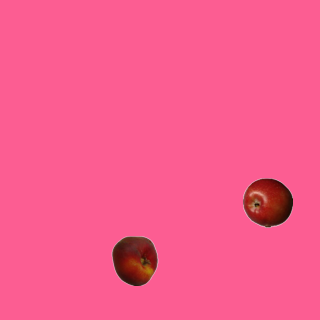Apple Braeburn: (242, 177, 292, 227)
Nectarine Flat: (109, 235, 159, 285)
